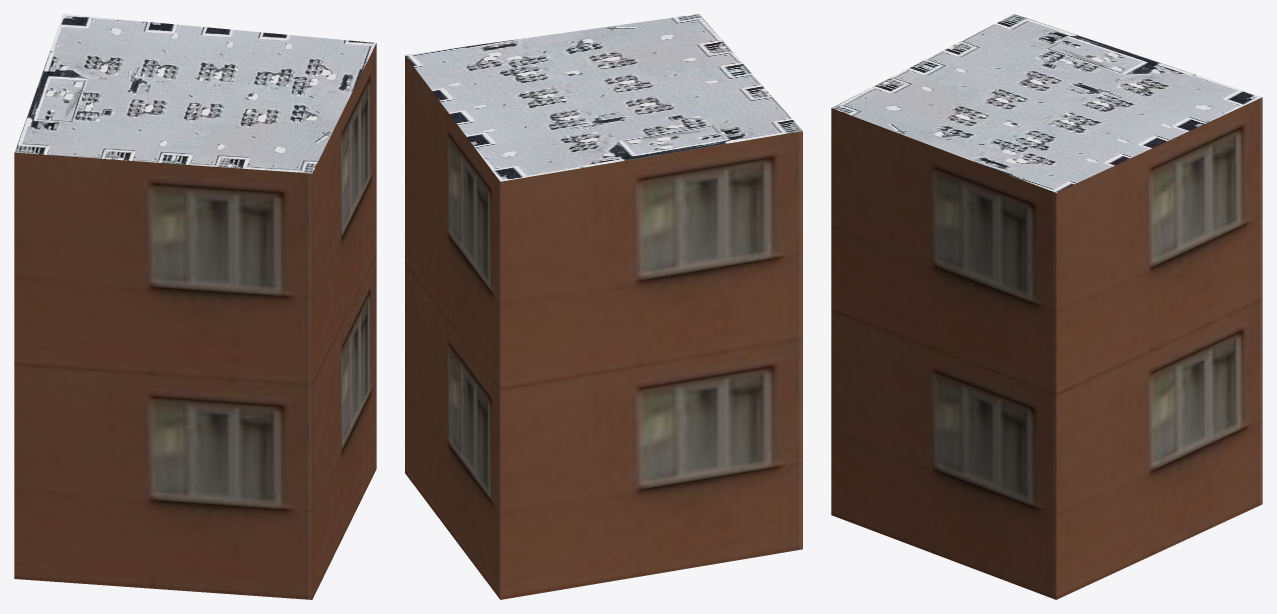
The model's file is ResTex__1877.fbx.
The picture shows the model from 3 angles, left to right: view 1: azimuth 30°, elevation 25°; view 2: azimuth 150°, elevation 25°; view 3: azimuth 270°, elevation 25°; orthographic projection. The views are drawn at different scales.
Visible parts, largest first — view 1: CityEngineMaterial_20_m, CityEngineMaterial_8_m; view 2: CityEngineMaterial_20_m, CityEngineMaterial_8_m; view 3: CityEngineMaterial_20_m, CityEngineMaterial_8_m.
Part boxes in pixels (x1,y1,x2,y2): CityEngineMaterial_20_m: (14,43,376,599); CityEngineMaterial_8_m: (14,14,376,173); CityEngineMaterial_20_m: (405,55,802,599); CityEngineMaterial_8_m: (405,14,802,181); CityEngineMaterial_20_m: (831,97,1262,599); CityEngineMaterial_8_m: (832,14,1262,192).
Bounding box in the file's own units: 5.65 × 6 × 5.76.
2 materials, 2 textured.
